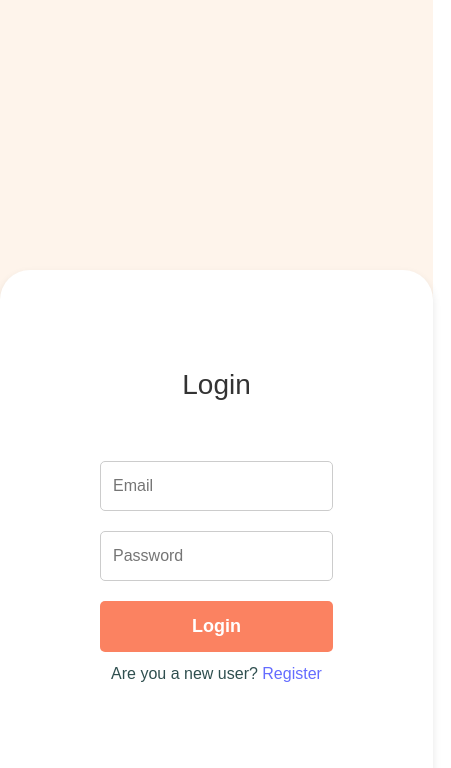
Test: Login Component › displays error message on failed login
# Fill out the form
Type "test@example.com" into the field with placeholder "Email" at (216, 486), box [100,461,333,511]
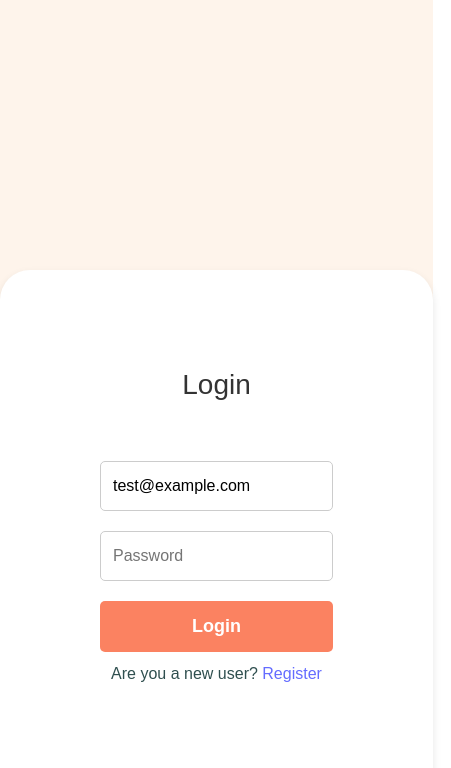
Type "wrongpassword" into the password field with placeholder "Password" at (216, 556), box [100,531,333,581]
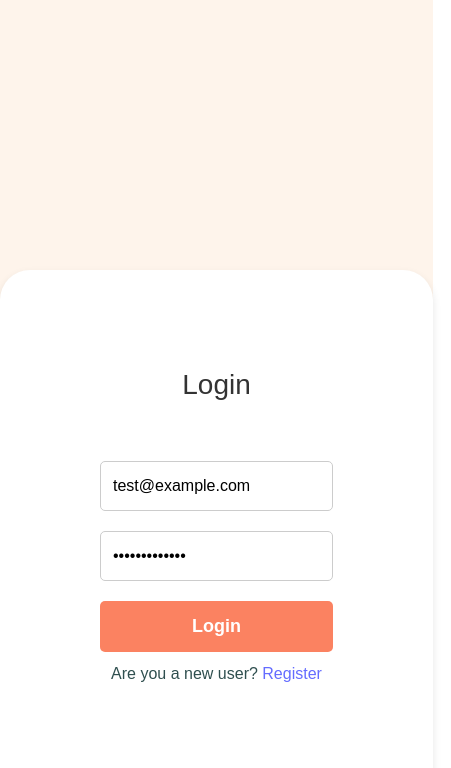
# Submit the form
Click the button "Login" at (216, 626), box [100,601,333,652]
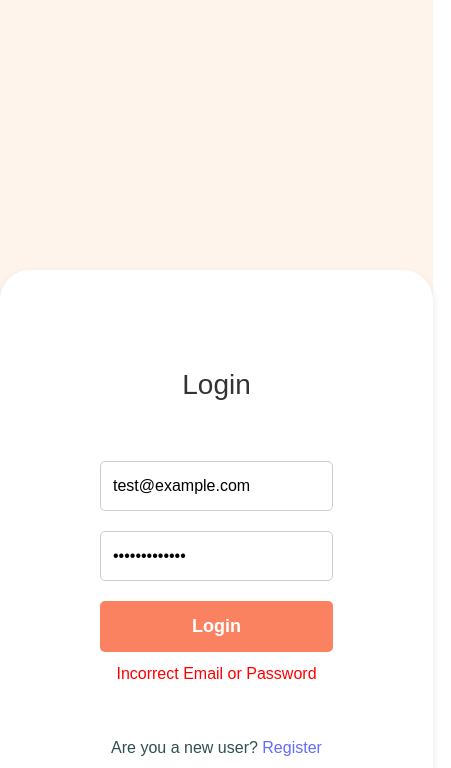
Check: the text "Incorrect Email or Password" is shown, box [100,662,333,686]
